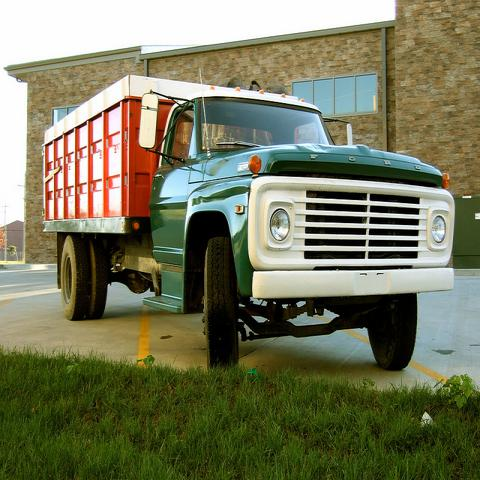truck: (46, 72, 456, 372)
